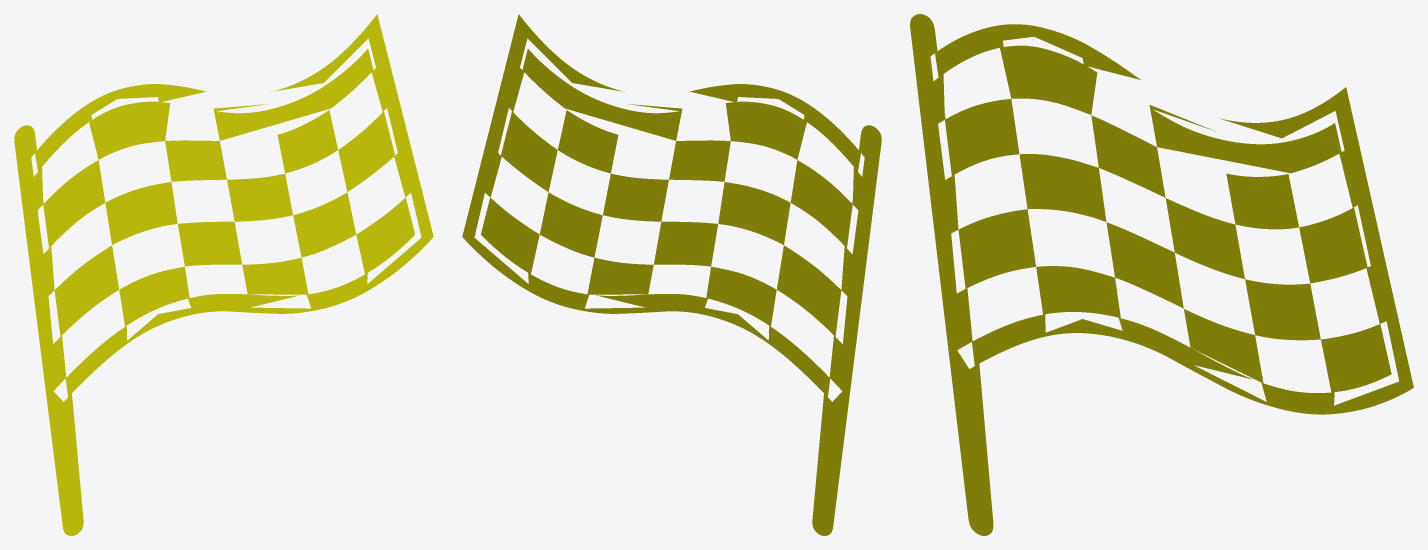
Rendered from chequered_flag.glb.
The picture shows the model from 3 angles, left to right: view 1: azimuth 30°, elevation 25°; view 2: azimuth 150°, elevation 25°; view 3: azimuth 330°, elevation 25°; orthographic projection. The views are drawn at different scales.
Visible parts, largest first — view 1: Text.701_701; view 2: Text.701_701; view 3: Text.701_701.
Part boxes in pixels (<box>): Text.701_701: <box>14,14,433,535</box>; Text.701_701: <box>462,14,881,535</box>; Text.701_701: <box>910,14,1413,535</box>.
Size of the model in its own units: 0.9964 by 1.02 by 3.6e-06.
